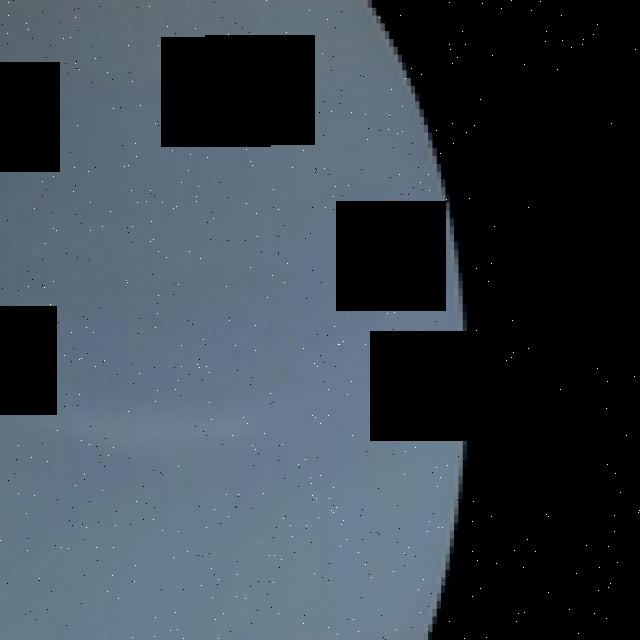Uranus: (0, 0, 472, 640)
